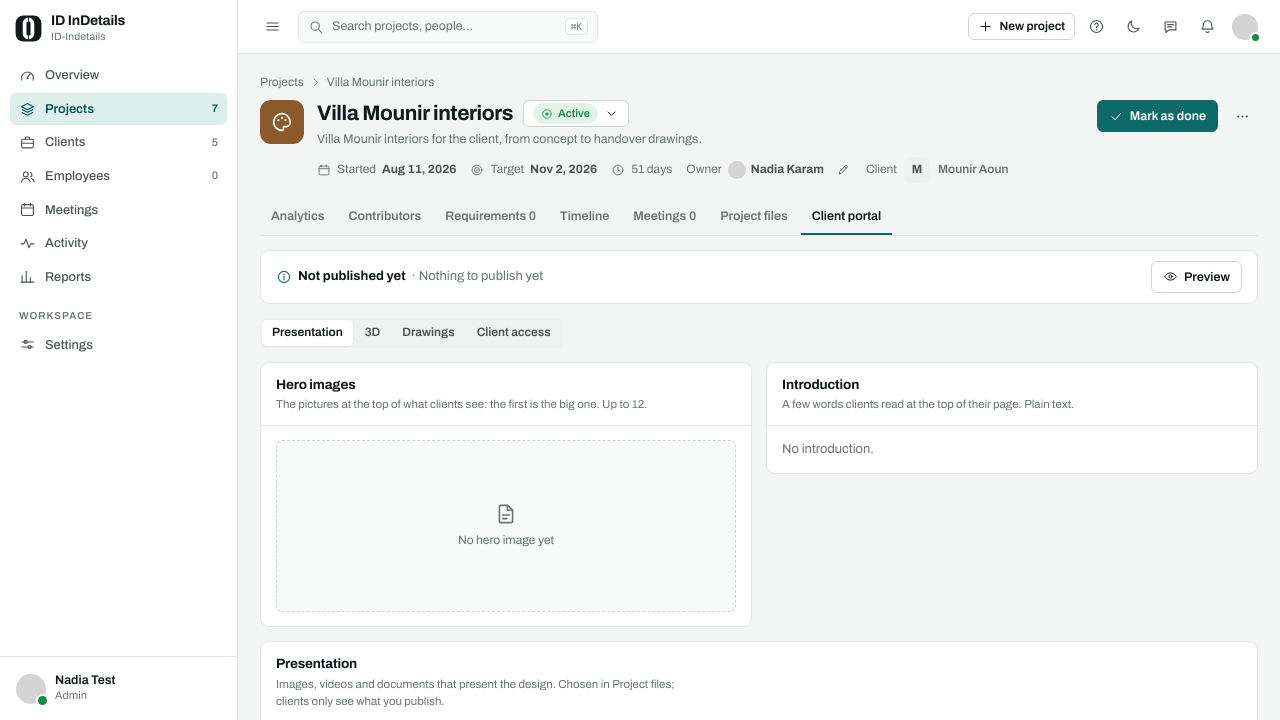
Test: the Client portal tab's parts, by permission › gives the Design admin, who invites the client, the three sections to look at and the client access, and keeps the choice in the link
This screenshot has width=1280, height=720.
Click the tab "3D": x=373, y=333 [355, 320, 390, 346]
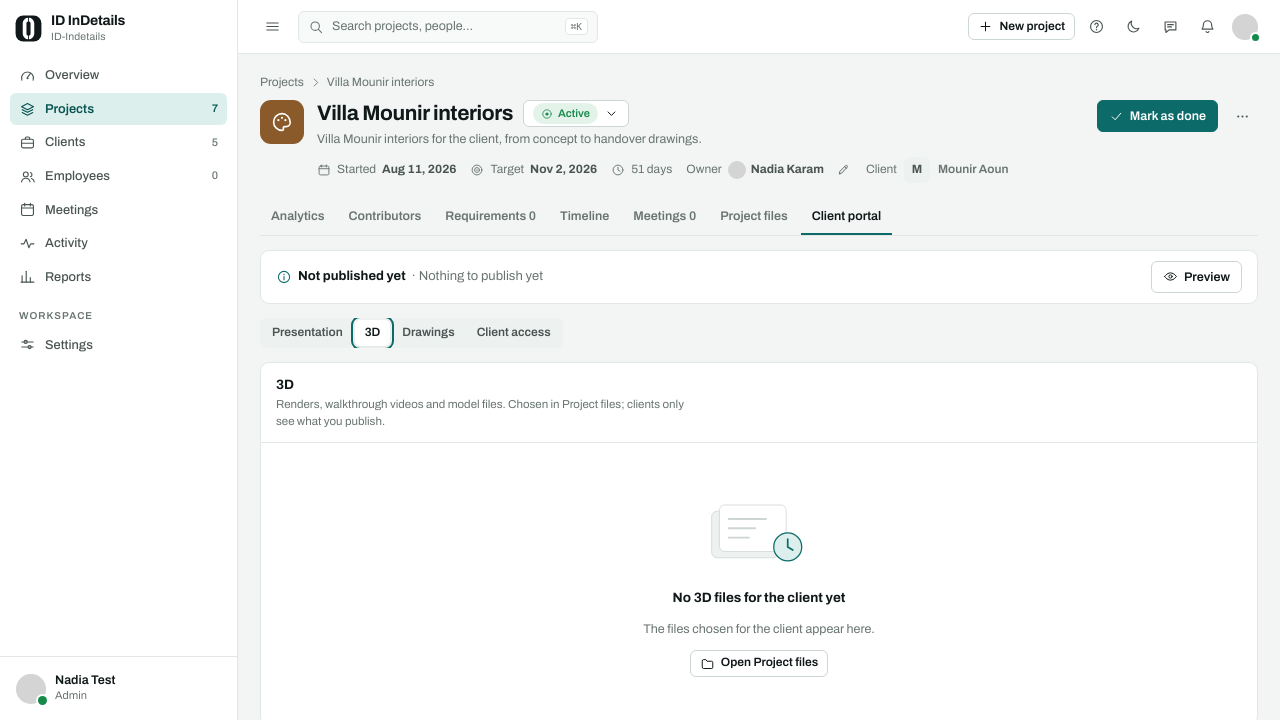
expect the heading "No 3D files for the client yet" is shown: met, box [673, 588, 846, 608]
Click the tab "Client access": x=514, y=333 [467, 320, 561, 346]
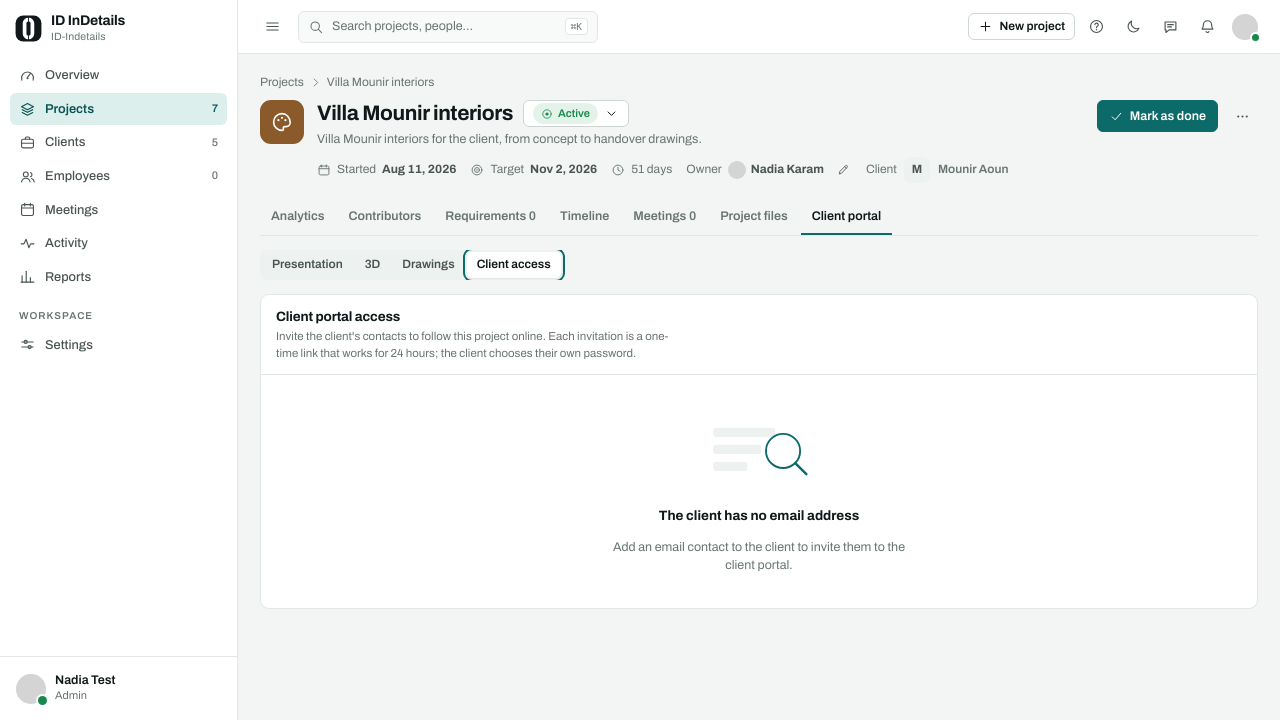
expect the text "Client portal access" is shown: met, box [276, 309, 400, 324]
